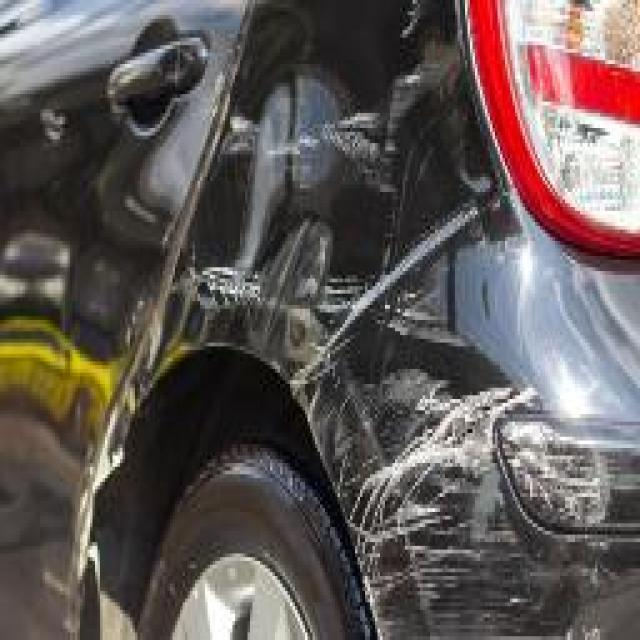Bumper: (310, 230, 640, 640)
Fender: (68, 0, 507, 640)
